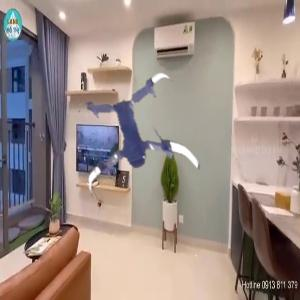drone: (71, 81, 201, 211)
